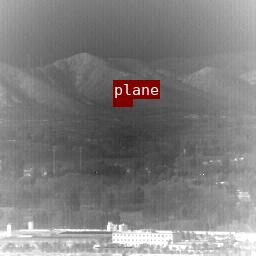plane: (113, 99, 132, 106)
